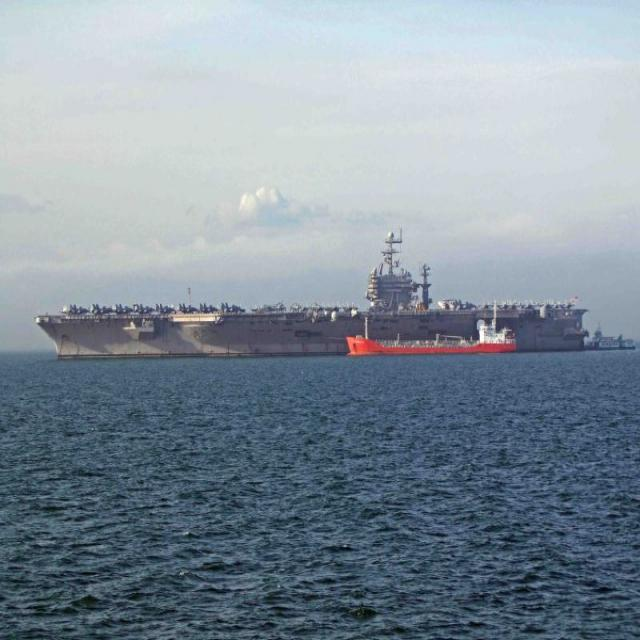Portanaves: (33, 223, 598, 364)
